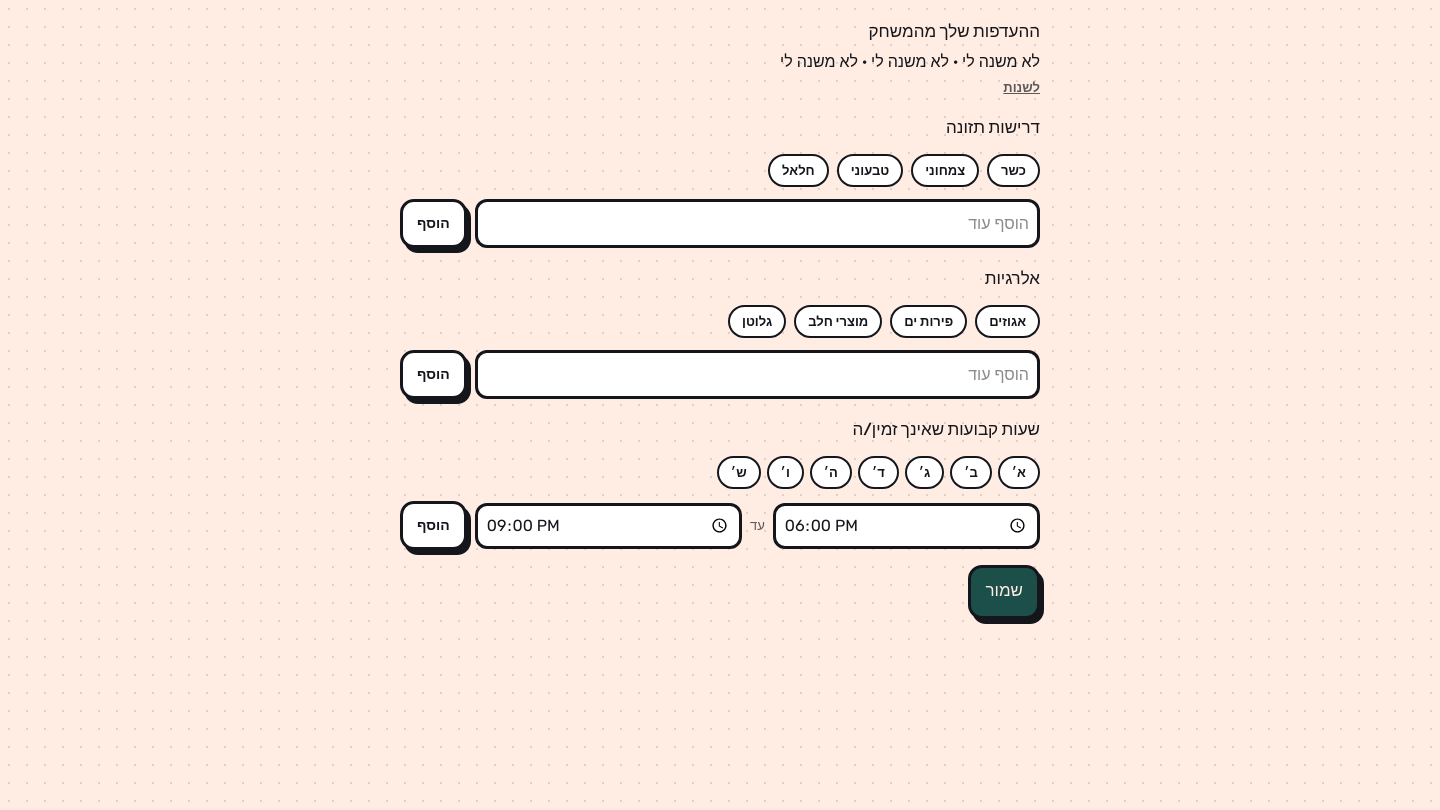
Test: toggling a constraint and saving PUTs the updated hard constraints
Expected: the button "כשר" is shown, x1=987 y1=154 x2=1040 y2=187
Click the button "אגוזים". click: {"x": 1008, "y": 321}
box: x1=975 y1=304 x2=1040 y2=338
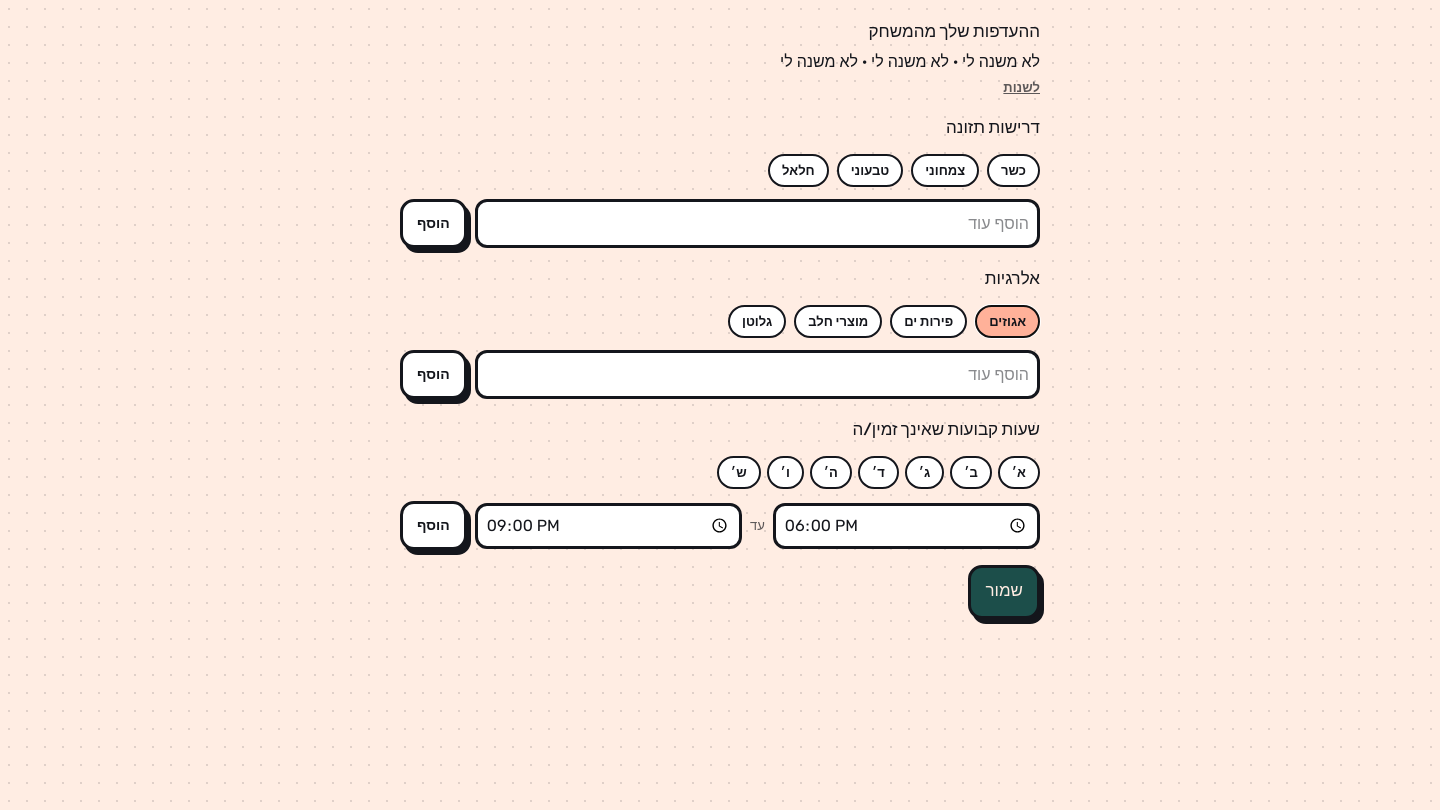
Click the button "שמור". click: {"x": 1004, "y": 592}
box: x1=968 y1=565 x2=1040 y2=618
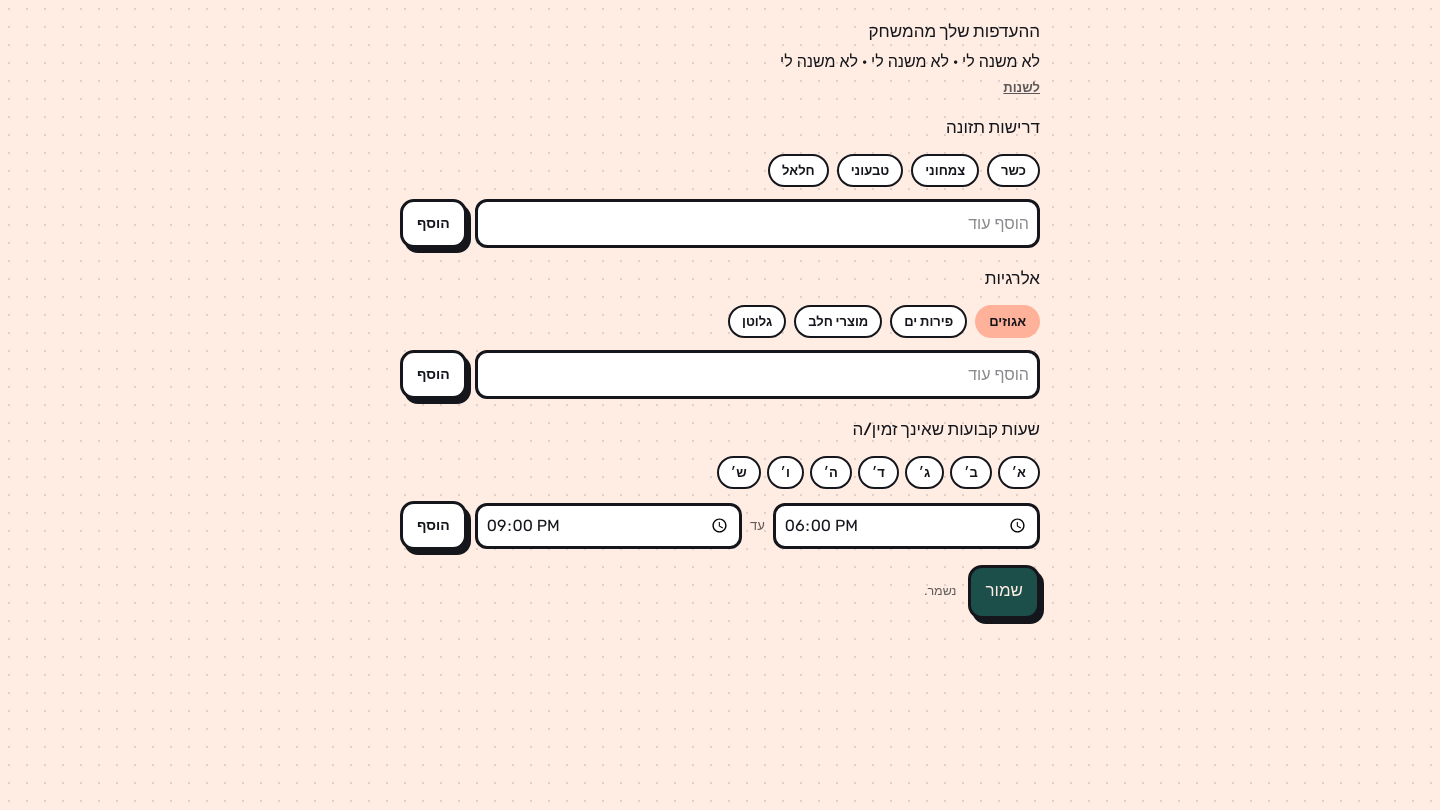
Expected: the text "נשמר." is shown, x1=924 y1=582 x2=956 y2=601
